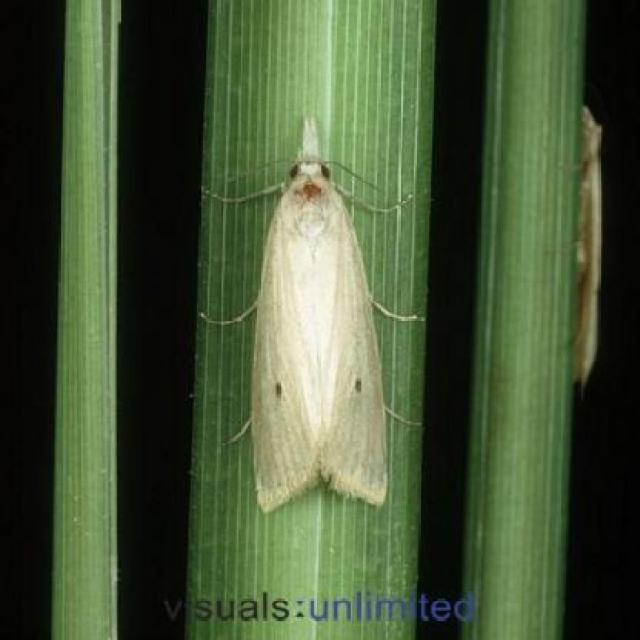stem-borer: (230, 109, 399, 518)
